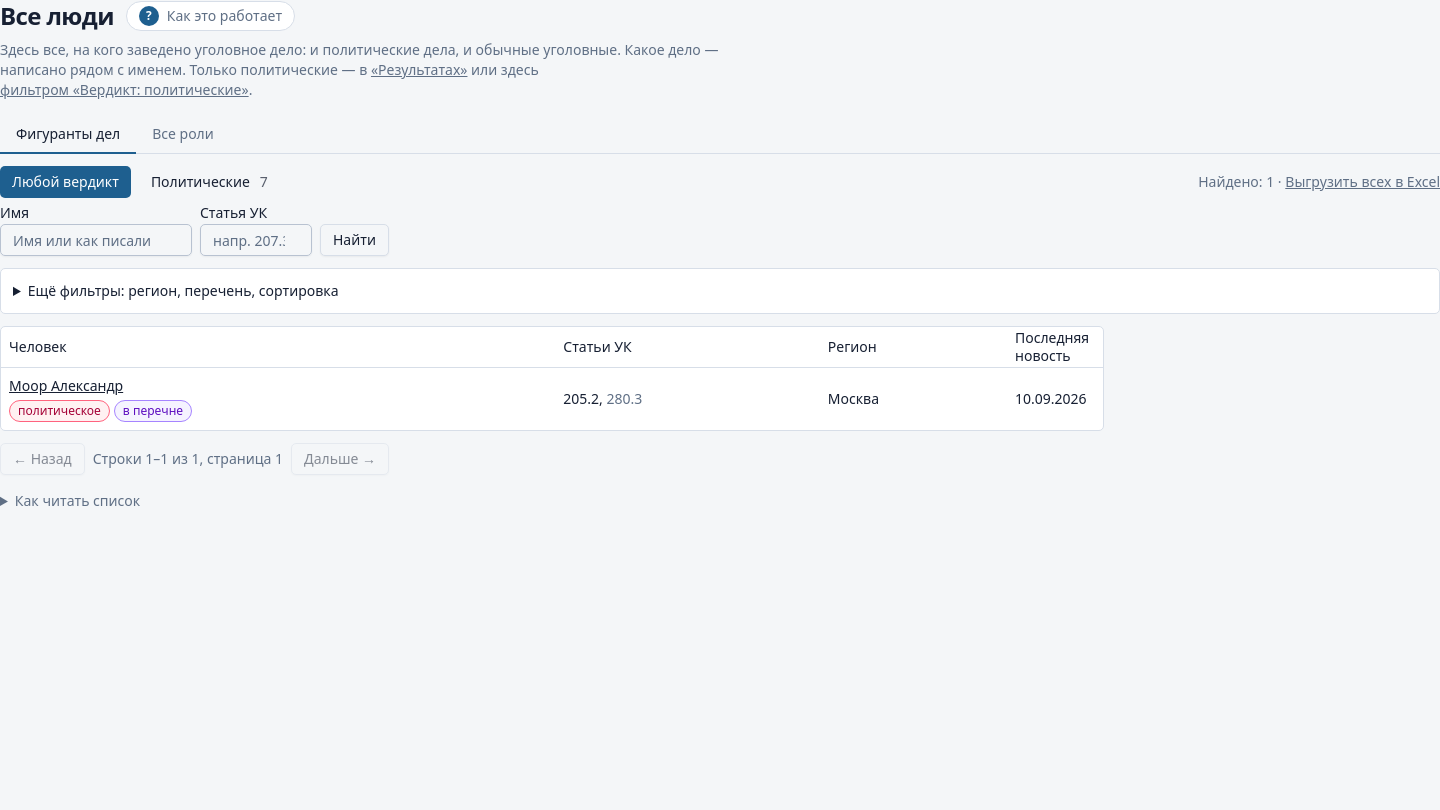
Test case: on a narrow screen folds the rarer filters and opens the person tapped over the table
Click the cell "10.09.2026".
click(1055, 398)  # box [1007,367,1103,430]
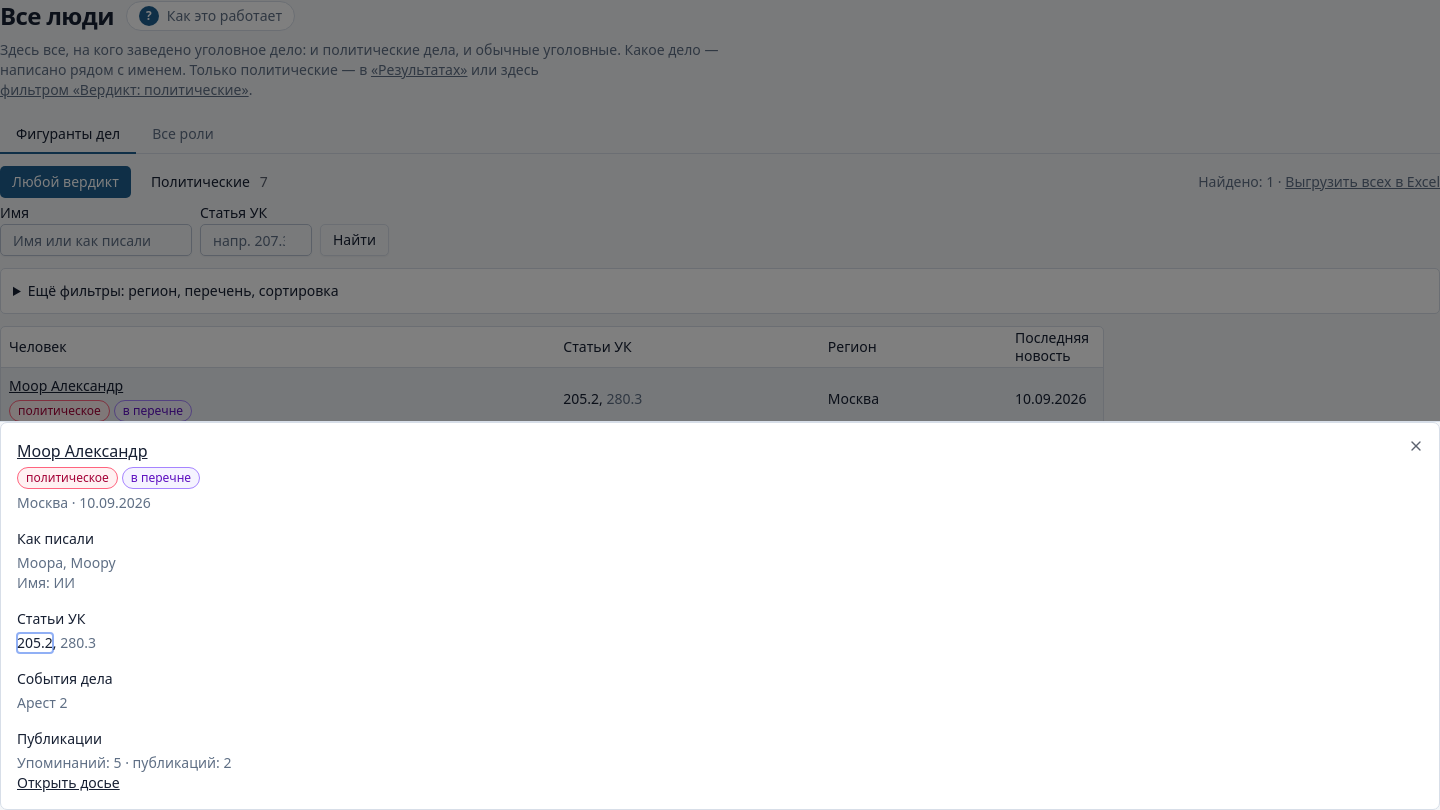
Expected: the element named "Подробно: Моор Александр" is shown, [0,422,1439,809]
